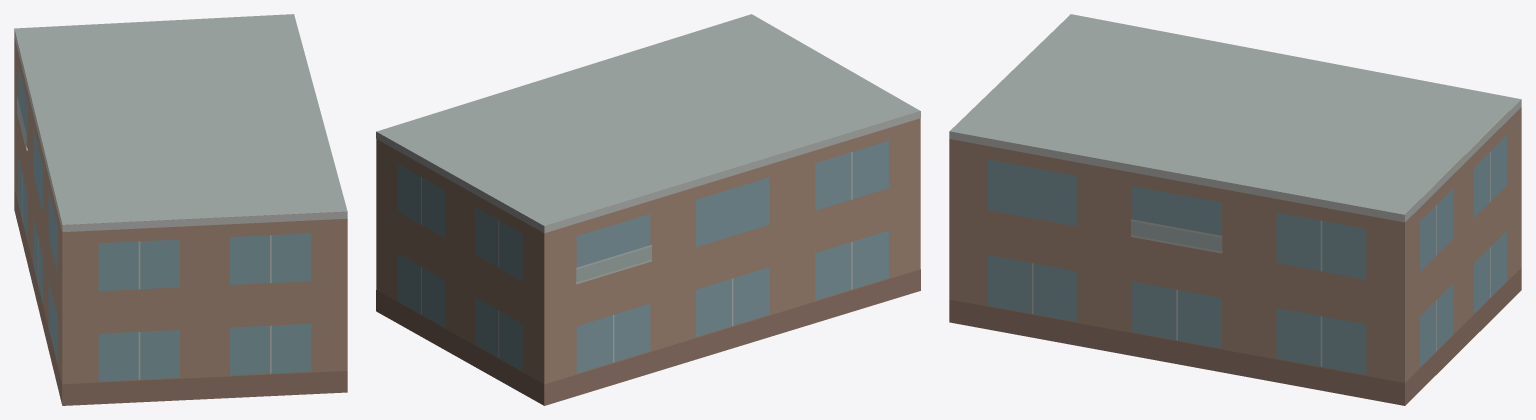
The model's file is survey-upis-32693487.glb.
3 views of the same model, side by side, from view 1: azimuth 30°, elevation 25°; view 2: azimuth 150°, elevation 25°; view 3: azimuth 270°, elevation 25° (orthographic). The views are drawn at different scales.
Visible parts, largest first — view 1: survey-upis-32693487.tmp; view 2: survey-upis-32693487.tmp; view 3: survey-upis-32693487.tmp.
Boxes of the visible parts, bbox=[...] form: survey-upis-32693487.tmp: bbox=[14, 14, 347, 405]; survey-upis-32693487.tmp: bbox=[376, 14, 920, 405]; survey-upis-32693487.tmp: bbox=[949, 14, 1521, 405].
Bounding box in the file's own units: 13.77 × 6.1 × 16.57.
